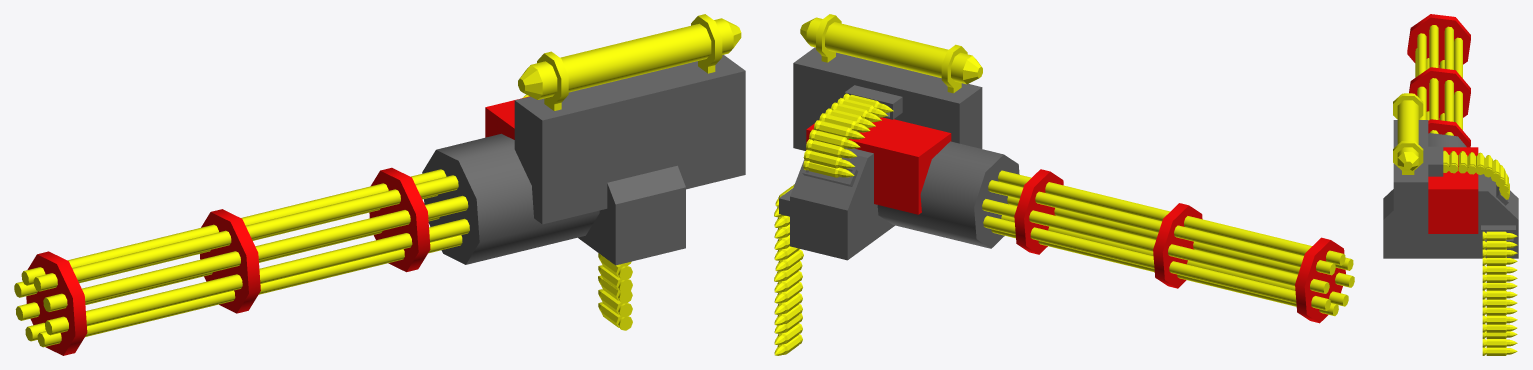
The model's file is Waffe_5.FBX.
3 views of the same model, side by side, from view 1: azimuth 30°, elevation 25°; view 2: azimuth 150°, elevation 25°; view 3: azimuth 270°, elevation 25° (orthographic). The views are drawn at different scales.
Parts seen in each view (by area): view 1: Cylinder073; view 2: Cylinder073; view 3: Cylinder073.
Part boxes in pixels (x1,y1,x2,y2): Cylinder073: [14, 14, 745, 355]; Cylinder073: [774, 14, 1354, 355]; Cylinder073: [1383, 14, 1518, 355].
Size of the model in its own units: 116 by 57.37 by 32.03.
1 material, 1 textured.
